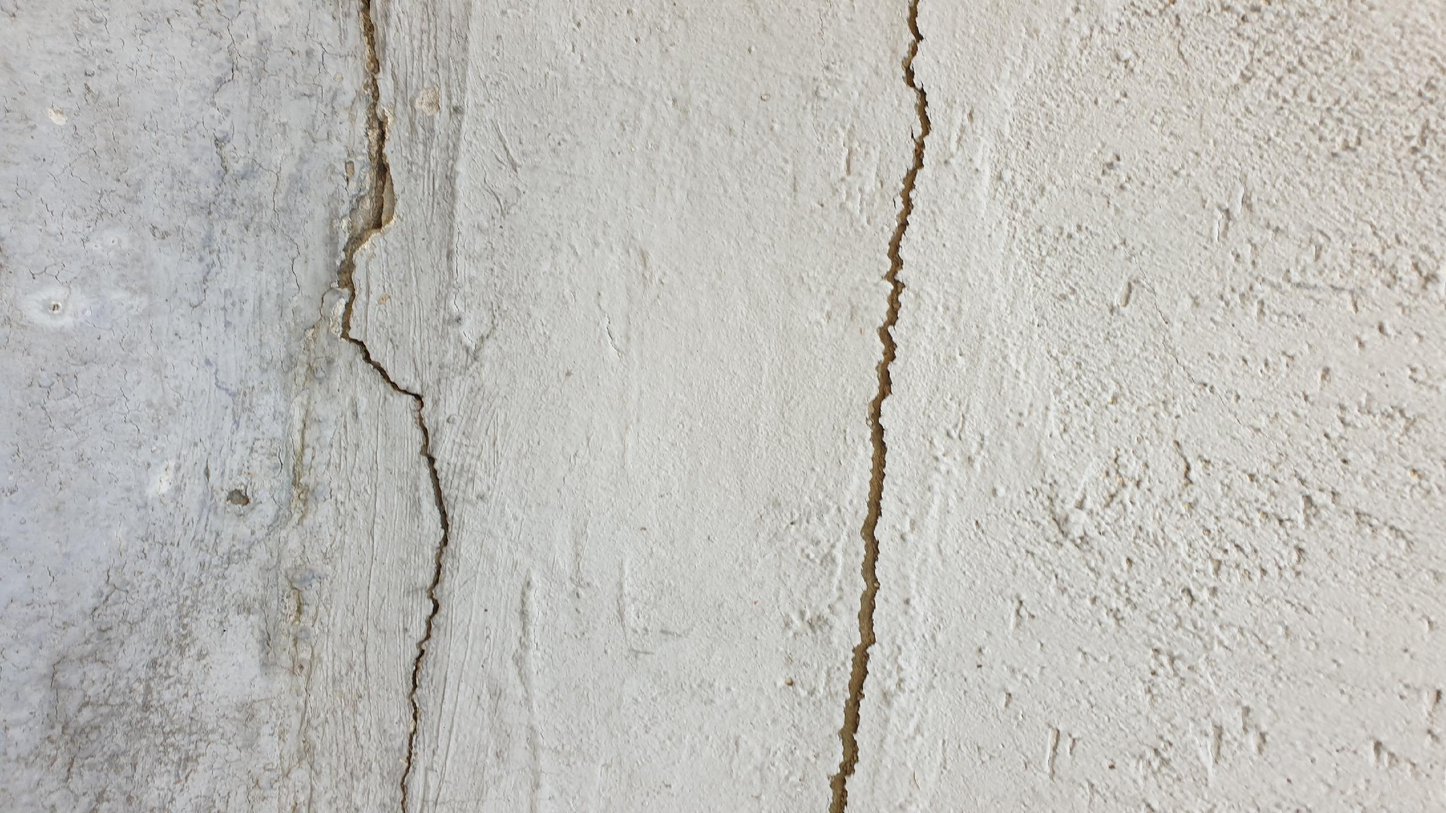crack: (330, 5, 453, 803), (826, 7, 938, 805)
